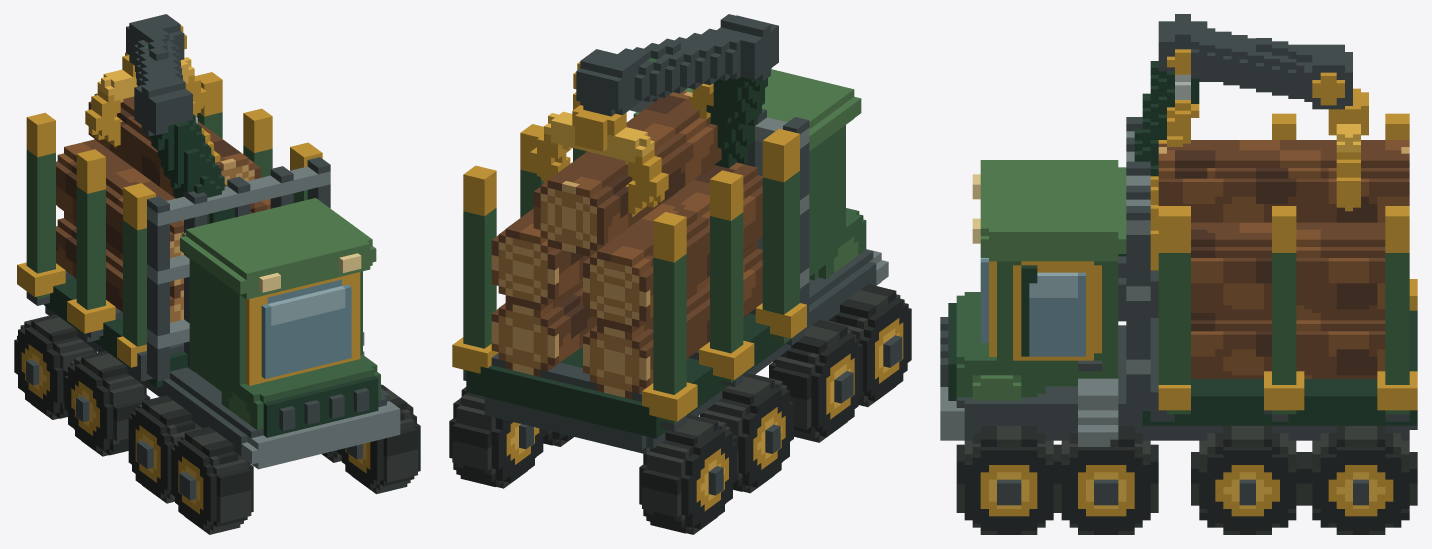
The model's file is timber_forwarder.glb.
The picture shows the model from 3 angles, left to right: view 1: azimuth 30°, elevation 25°; view 2: azimuth 150°, elevation 25°; view 3: azimuth 270°, elevation 25°; orthographic projection. The views are drawn at different scales.
Parts seen in each view (by area): view 1: timber_forwarder; view 2: timber_forwarder; view 3: timber_forwarder.
Boxes of the visible parts, x1,y1,x2,y2 form: timber_forwarder: (14,14,420,534); timber_forwarder: (449,14,911,534); timber_forwarder: (940,14,1417,534).
Bounding box in the file's own units: 3.6 × 5.8 × 5.9.
